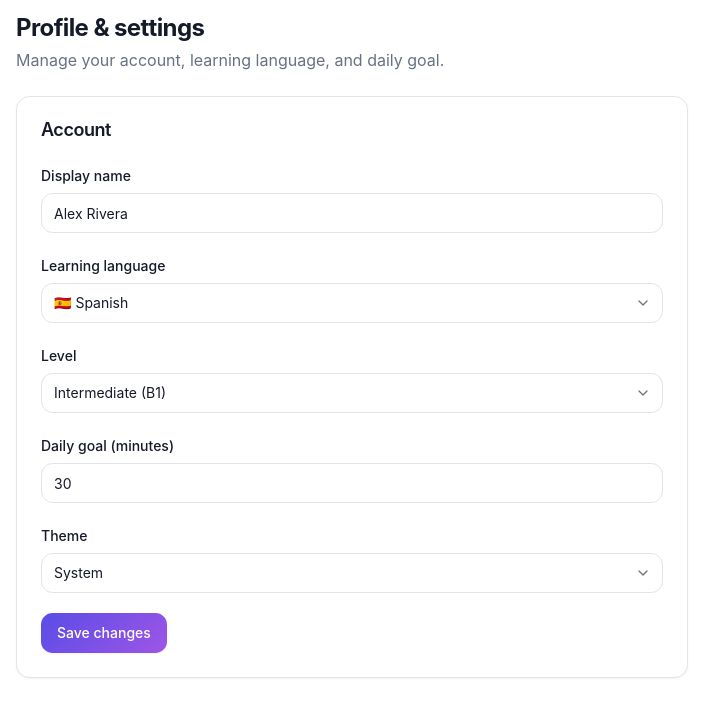
Test case: ProfilePage › shows a validation error for an out-of-range daily goal
Replace the text in the number field labelled "Daily goal (minutes)" with "1" at (352, 483), box [41, 463, 663, 503]
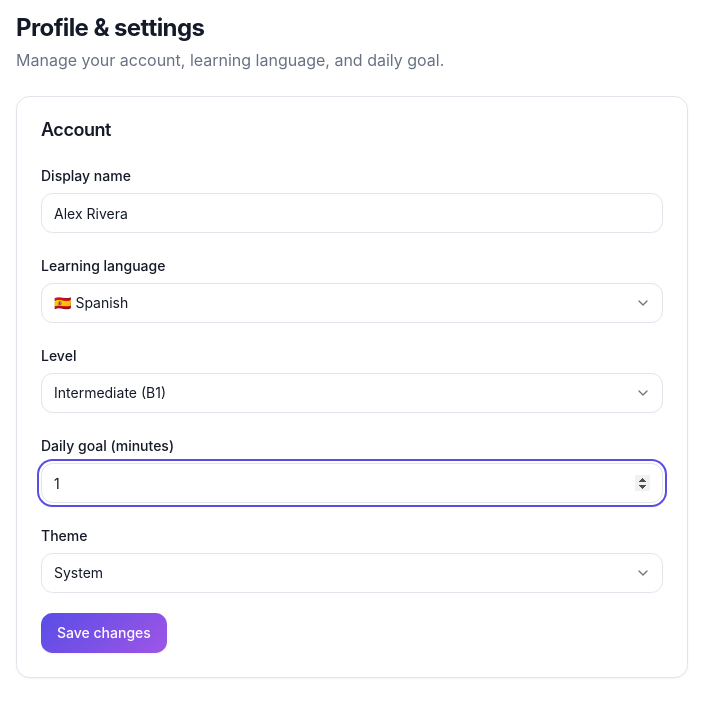
Click the button "Save changes" at (104, 633), box [41, 613, 167, 653]
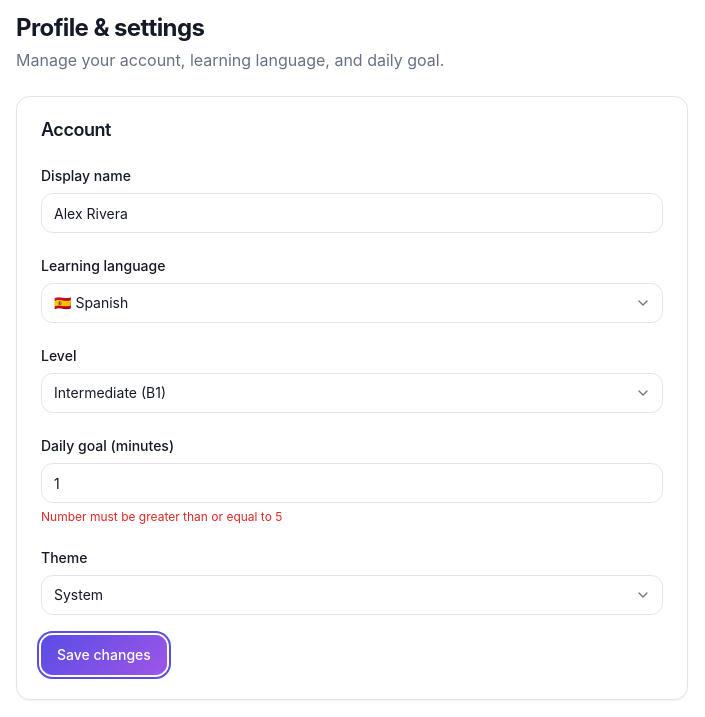
Result: the text "Number must be greater than or equal to 5" is shown at [41, 509, 282, 524]
